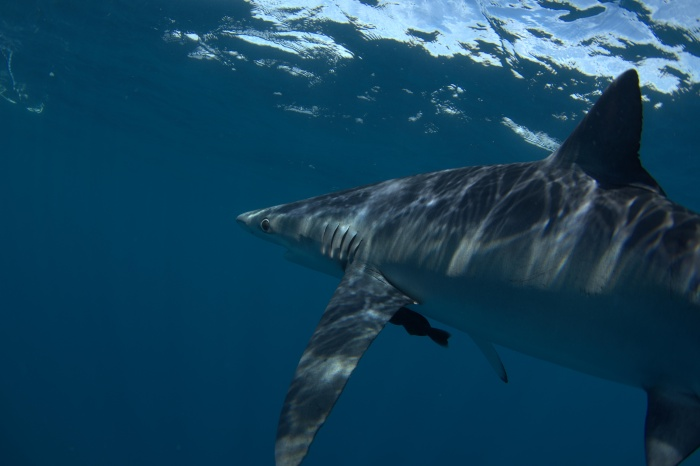Azul: (197, 53, 700, 446)
